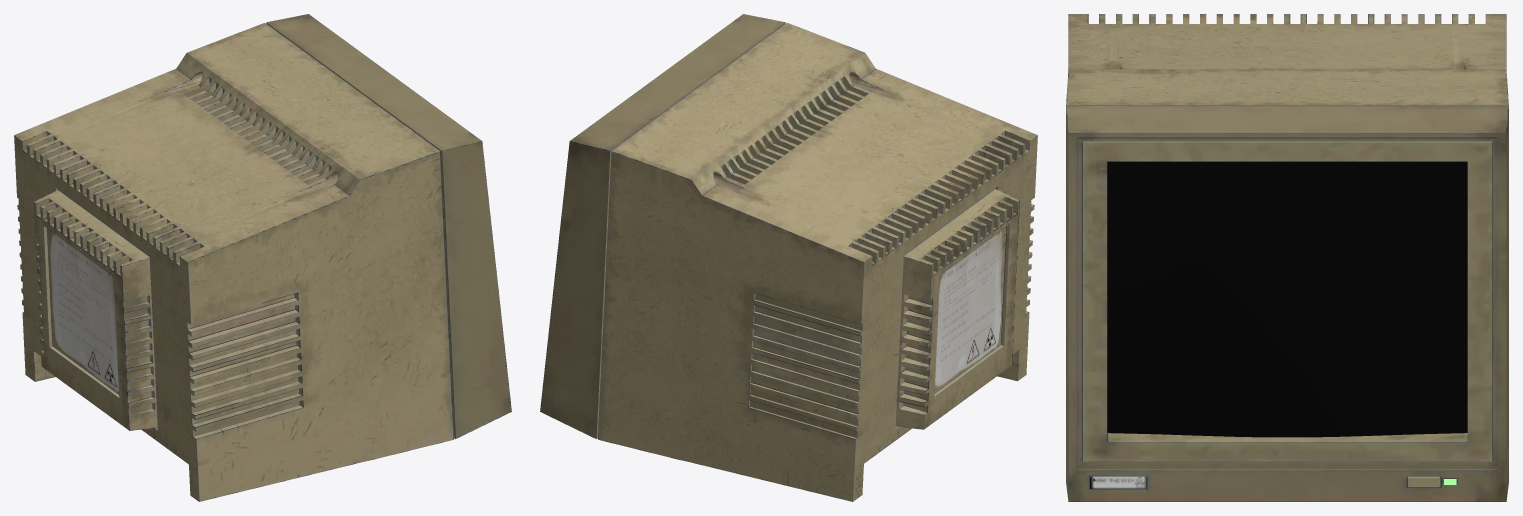
File: monitor-com.glb
3 views of the same model, side by side, from view 1: azimuth 30°, elevation 25°; view 2: azimuth 150°, elevation 25°; view 3: azimuth 270°, elevation 25° (orthographic). The views are drawn at different scales.
Parts seen in each view (by area): view 1: Object_4, Object_7; view 2: Object_4, Object_7; view 3: Object_6, Object_7, Object_4, Object_8.
Part boxes in pixels (bbox=[...]): Object_4: bbox=[14, 23, 455, 501]; Object_7: bbox=[266, 14, 511, 439]; Object_4: bbox=[596, 22, 1037, 501]; Object_7: bbox=[540, 14, 785, 438]; Object_6: bbox=[1107, 161, 1467, 437]; Object_7: bbox=[1066, 106, 1508, 501]; Object_4: bbox=[1066, 14, 1508, 105]; Object_8: bbox=[1082, 141, 1492, 487].
Bounding box in the file's own units: 2.7 × 2.19 × 2.35.
7 materials, 4 textured.
